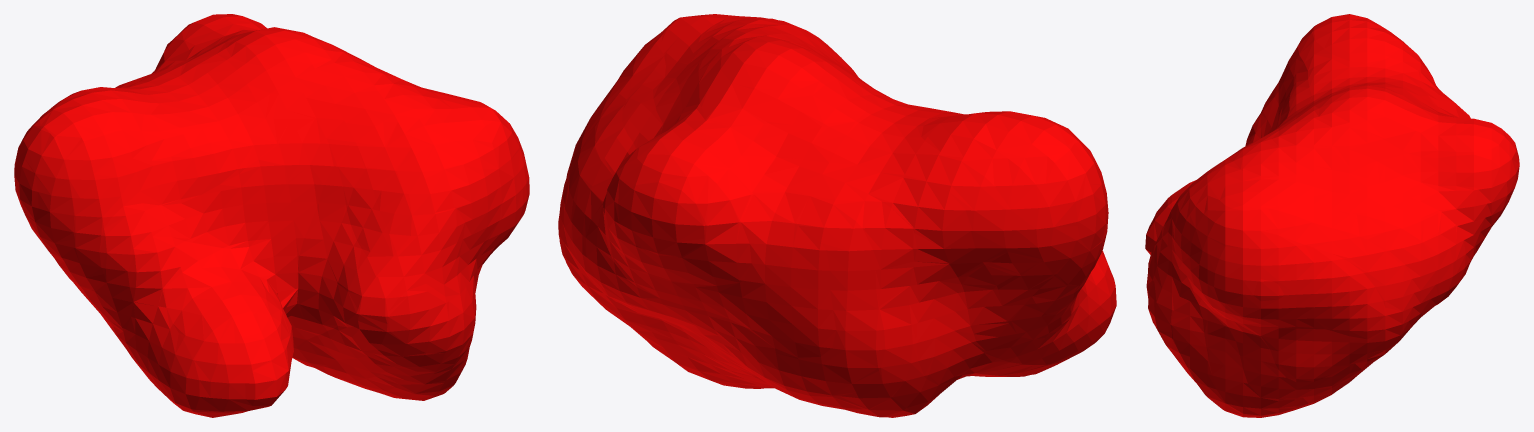
The model's file is yoaB_coarse.dae.
The picture shows the model from 3 angles, left to right: view 1: azimuth 30°, elevation 25°; view 2: azimuth 150°, elevation 25°; view 3: azimuth 270°, elevation 25°; orthographic projection. The views are drawn at different scales.
Visible parts, largest first — view 1: yoaB; view 2: yoaB; view 3: yoaB.
Part boxes in pixels (x1,y1,x2,y2): yoaB: [14, 14, 529, 417]; yoaB: [558, 14, 1116, 417]; yoaB: [1145, 14, 1519, 417].
Bounding box in the file's own units: 46.86 × 33.02 × 38.66.
